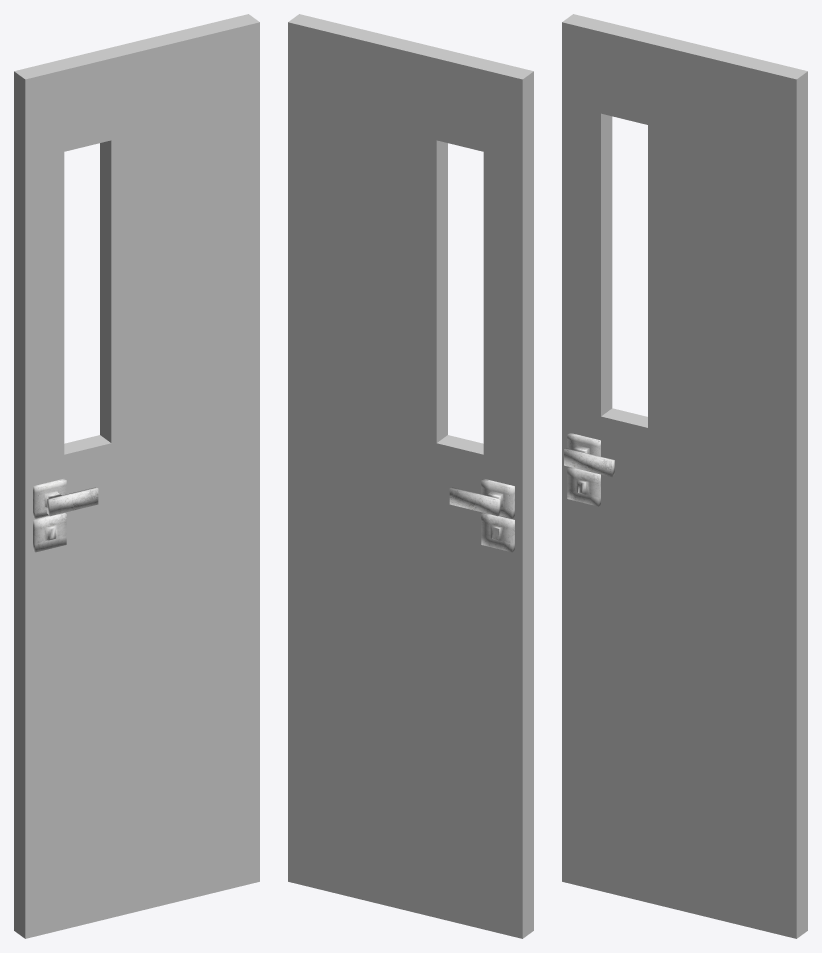
File: porta sala COMUM.fbx
3 views of the same model, side by side, from view 1: azimuth 30°, elevation 25°; view 2: azimuth 150°, elevation 25°; view 3: azimuth 330°, elevation 25° (orthographic).
Visible parts, largest first — view 1: porta branca; view 2: porta branca; view 3: porta branca.
Boxes of the visible parts, x1,y1,x2,y2 form: porta branca: (14, 14, 259, 938); porta branca: (288, 14, 533, 938); porta branca: (562, 14, 807, 938).
Bounding box in the file's own units: 0.6 × 2.1 × 0.1501.
3 materials, 2 textured.
